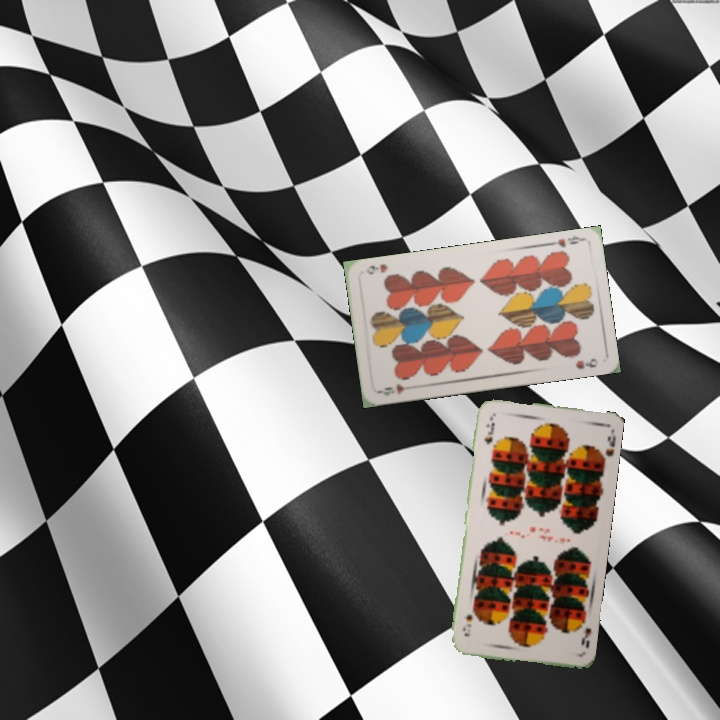H9: (545, 232, 586, 250), (376, 380, 416, 398)
S9: (574, 613, 594, 651), (480, 412, 497, 446)
